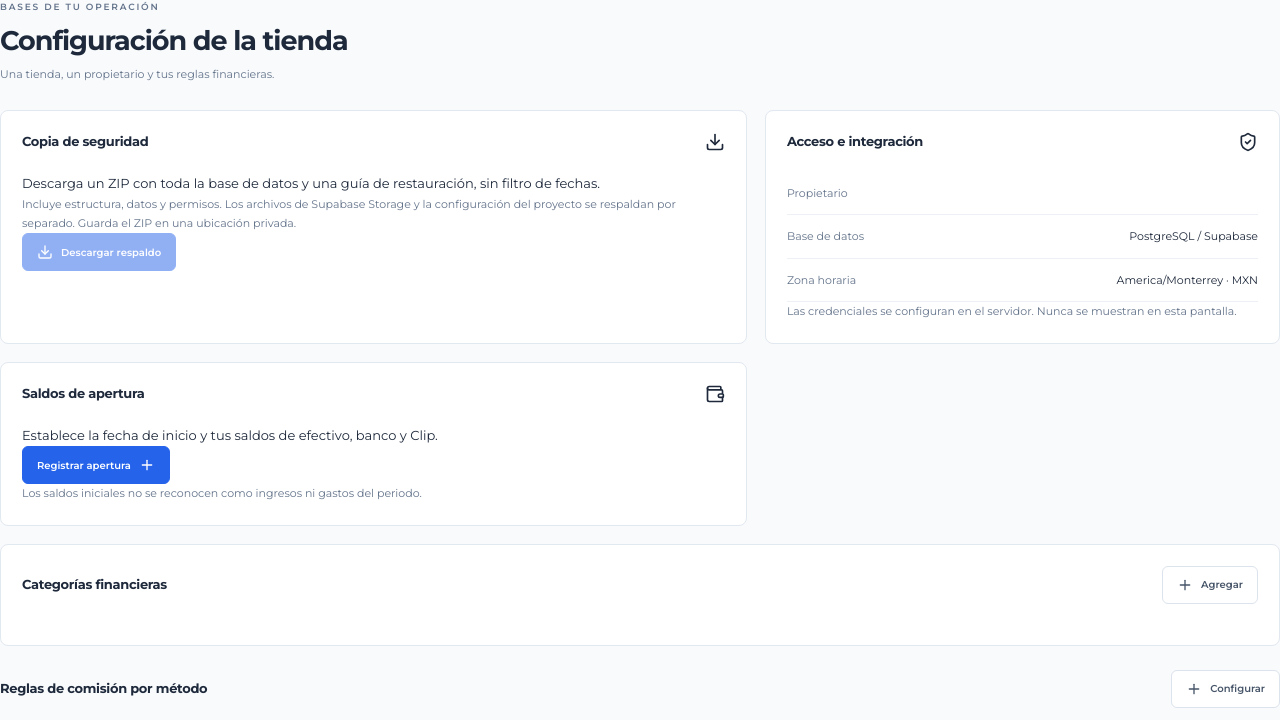
it: permite registrar apertura sin productos ni inventario
Click the button "Registrar apertura". click: click(96, 465)
box: [22, 446, 170, 484]
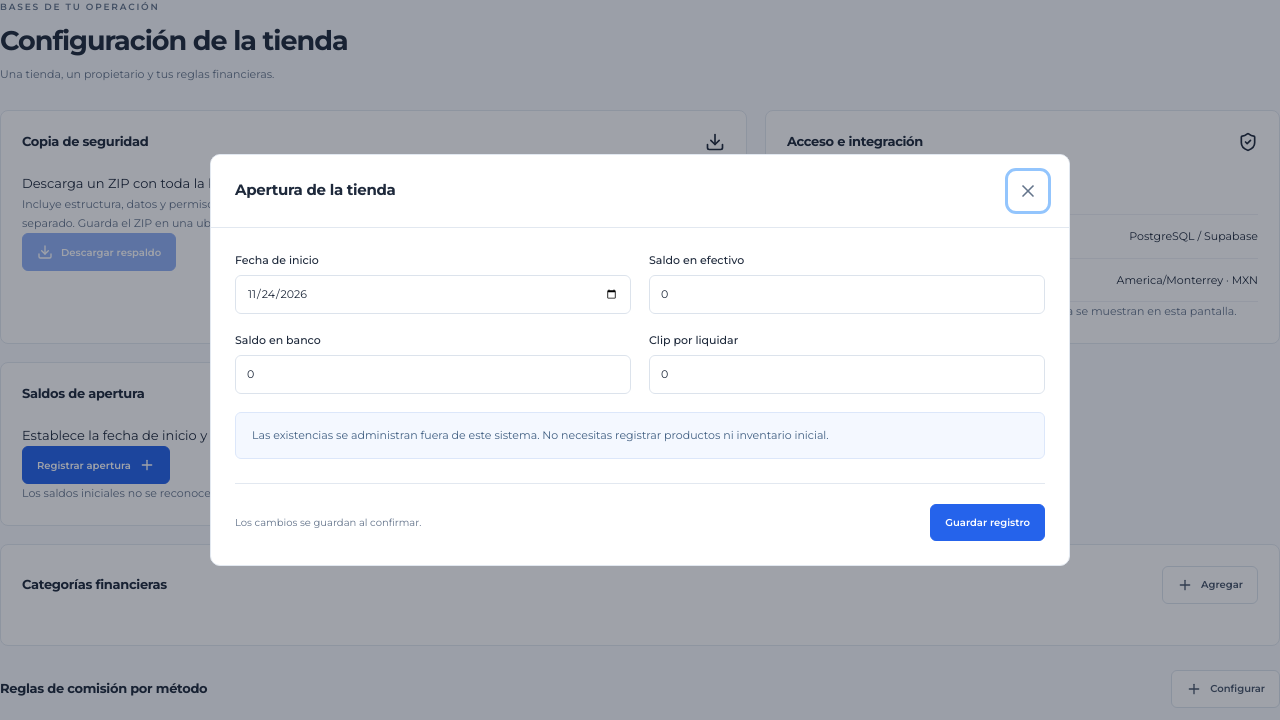
Now the text "No necesitas registrar productos ni inventario inicial" is shown, box [252, 428, 829, 442]
